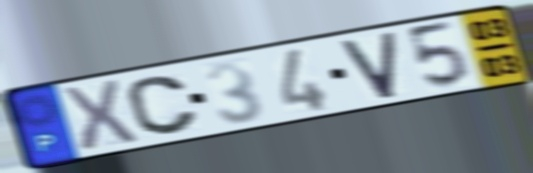3: (205, 59, 265, 126)
4: (279, 44, 331, 114)
5: (402, 16, 472, 92)
C: (123, 73, 201, 138)
V: (337, 28, 399, 102)
X: (58, 78, 142, 156)
